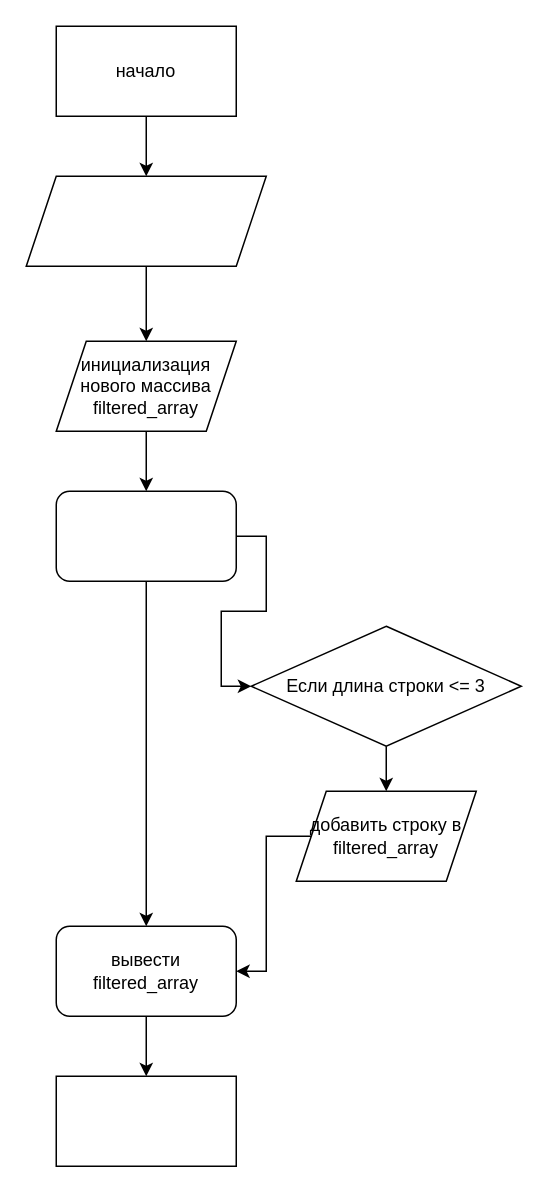
The diagram is 548 pixels wide and 1193 high, and some of its shapes have lost their labels. Here are the shapes that lost their labels. From the top down, the box of each, then its label:
(25, 175, 266, 266): ввод массива строк
(55, 490, 236, 581): для каждой строки в массиве:
(55, 1075, 236, 1166): конец
